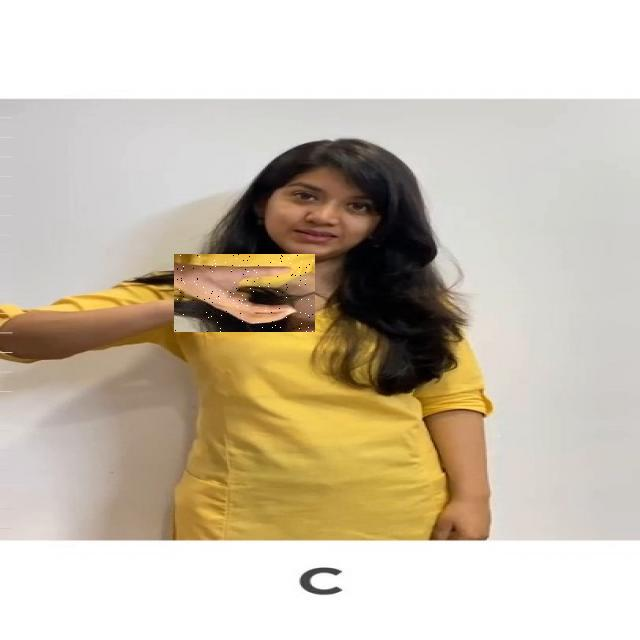C: (174, 254, 315, 332)
